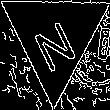N_NW: (28, 5, 81, 70)
